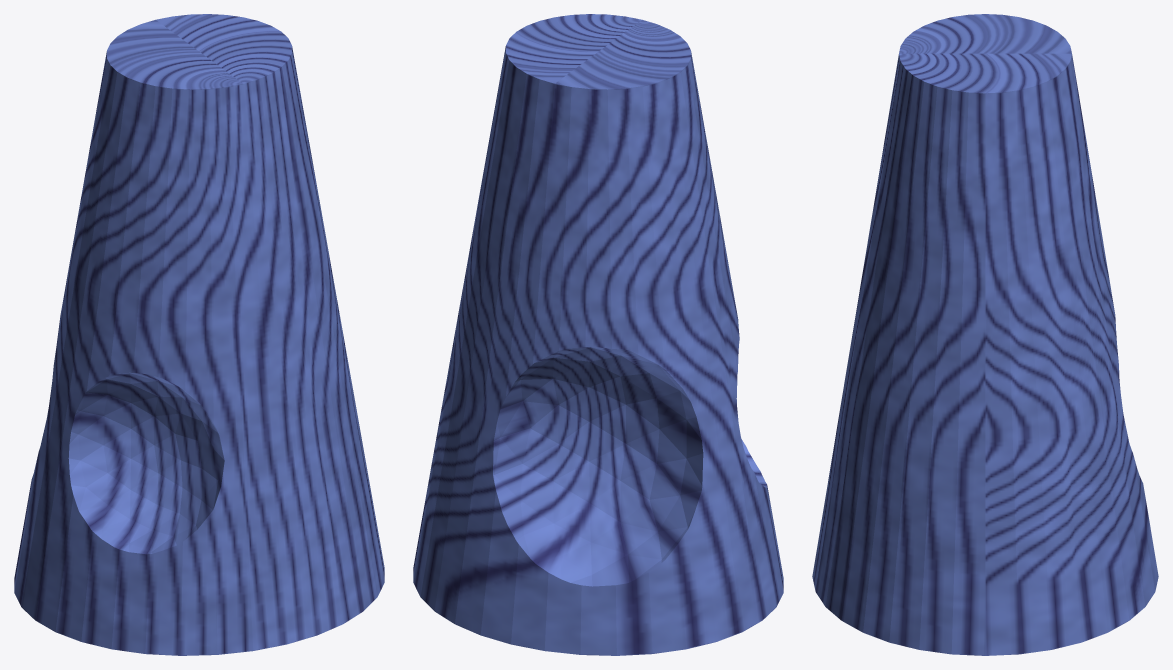
The picture shows the model from 3 angles, left to right: view 1: azimuth 30°, elevation 25°; view 2: azimuth 150°, elevation 25°; view 3: azimuth 270°, elevation 25°; orthographic projection.
Visible parts, largest first — view 1: geometry_0; view 2: geometry_0; view 3: geometry_0.
Boxes of the visible parts, x1=… form: geometry_0: x1=14, y1=14, x2=384, y2=655; geometry_0: x1=413, y1=14, x2=783, y2=655; geometry_0: x1=812, y1=14, x2=1158, y2=655.
Size of the model in its own units: 0.6435 by 0.9899 by 0.594.
Materials: 1 (1 with a texture image).
